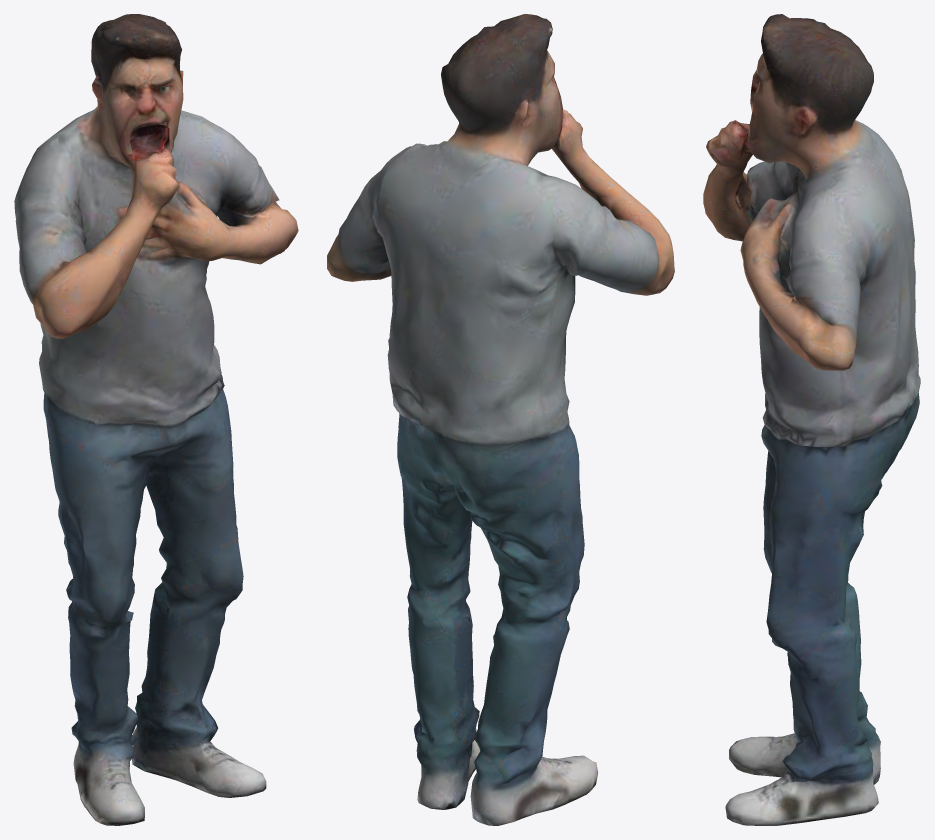
Rendered from ManCoughing.glb.
3 renders of one model, left to right at view 1: azimuth 30°, elevation 25°; view 2: azimuth 150°, elevation 25°; view 3: azimuth 270°, elevation 25°, orthographic.
Visible parts, largest first — view 1: ManCoughing; view 2: ManCoughing; view 3: ManCoughing.
Part boxes in pixels (x1=…): ManCoughing: x1=14, y1=14, x2=298, y2=825; ManCoughing: x1=327, y1=14, x2=674, y2=825; ManCoughing: x1=703, y1=14, x2=920, y2=825.
Size of the model in its own units: 0.7004 by 1.75 by 0.454.
1 material, 1 textured.
